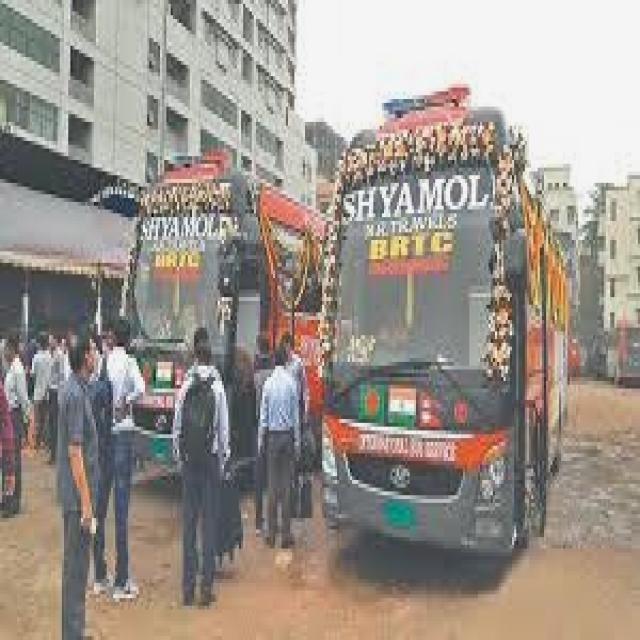bus: (304, 110, 574, 566), (125, 169, 338, 477)
